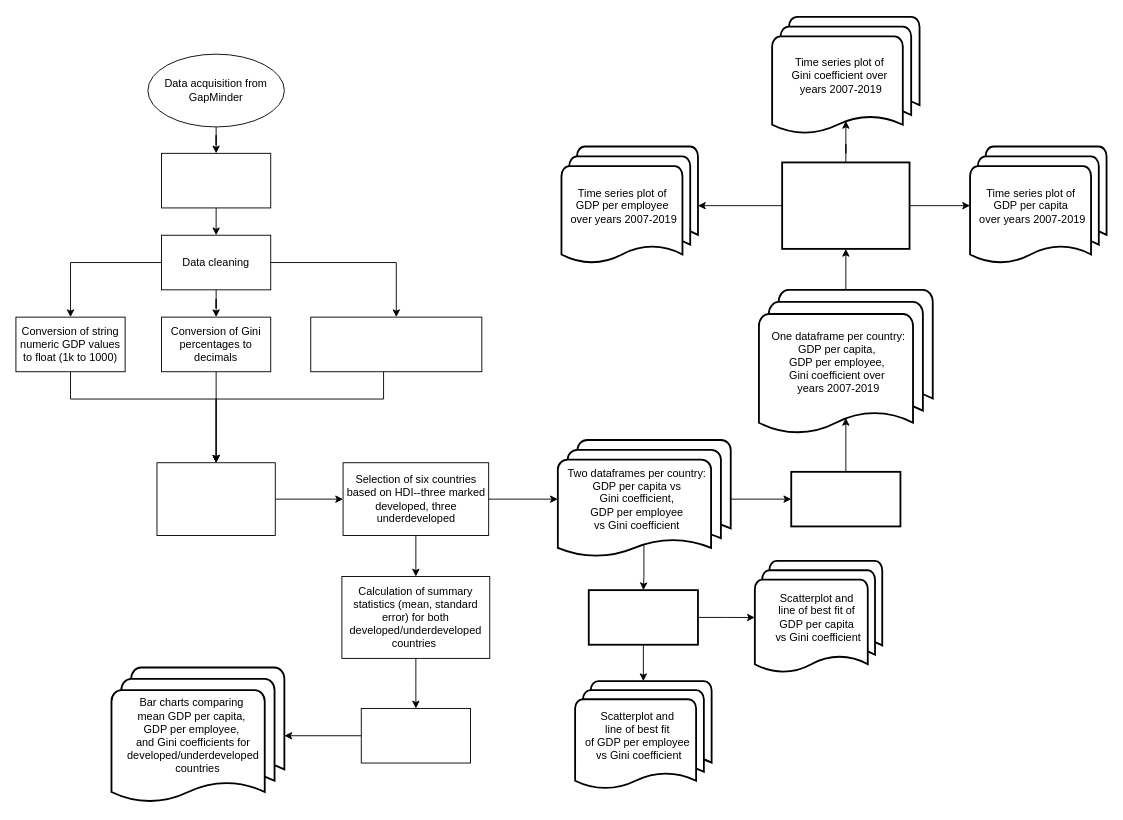
The diagram is 1123 pixels wide and 820 high, and some of its shapes have lost their labels. Each missing label, with the centre of its shape:
"Construction of bar charts with Matplotlib" goes at [415,735].
"Construction of time series dataframes" goes at [845,498].
"Conversion of HDI True/False to Developed/Underdeveloped string labels" goes at [396,344].
"Inner join and flattening HDI to GDP and Gini dataframes" goes at [215,499].
"Linear regression analysis" goes at [642,617].
"Plotting time series graphs of GDP and Gini values with ggplot2" goes at [845,205].
"Selection of years 2007-2019" goes at [216,180].
